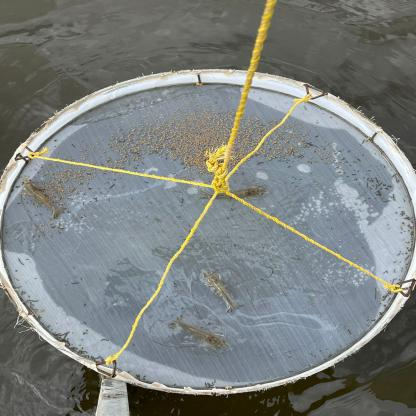shrimp: (21, 177, 68, 220), (203, 268, 244, 313), (169, 317, 228, 348), (199, 186, 268, 200)
